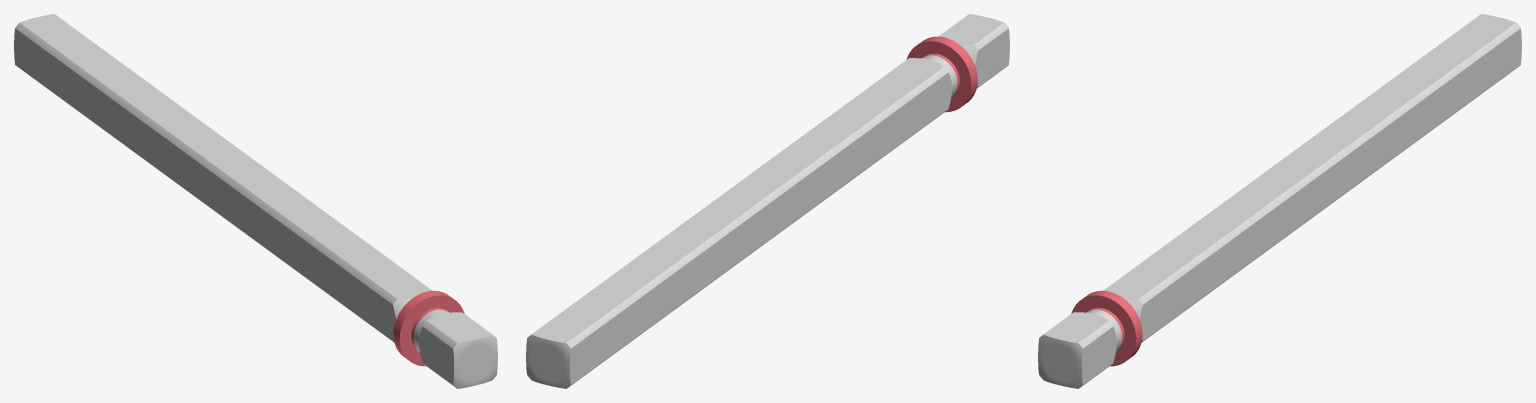
3 views of the same model, side by side, from view 1: azimuth 30°, elevation 25°; view 2: azimuth 150°, elevation 25°; view 3: azimuth 330°, elevation 25° (orthographic).
Visible parts, largest first — view 1: main_ffffff, cad_d22630; view 2: main_ffffff, cad_d22630; view 3: main_ffffff, cad_d22630.
Part boxes in pixels (x1=…): main_ffffff: x1=14, y1=14, x2=497, y2=388; cad_d22630: x1=393, y1=290, x2=464, y2=366; main_ffffff: x1=526, y1=14, x2=1009, y2=388; cad_d22630: x1=906, y1=36, x2=977, y2=112; main_ffffff: x1=1038, y1=14, x2=1521, y2=388; cad_d22630: x1=1071, y1=290, x2=1142, y2=366.
Bounding box in the file's own units: 4.8 × 4.79 × 55.37.
